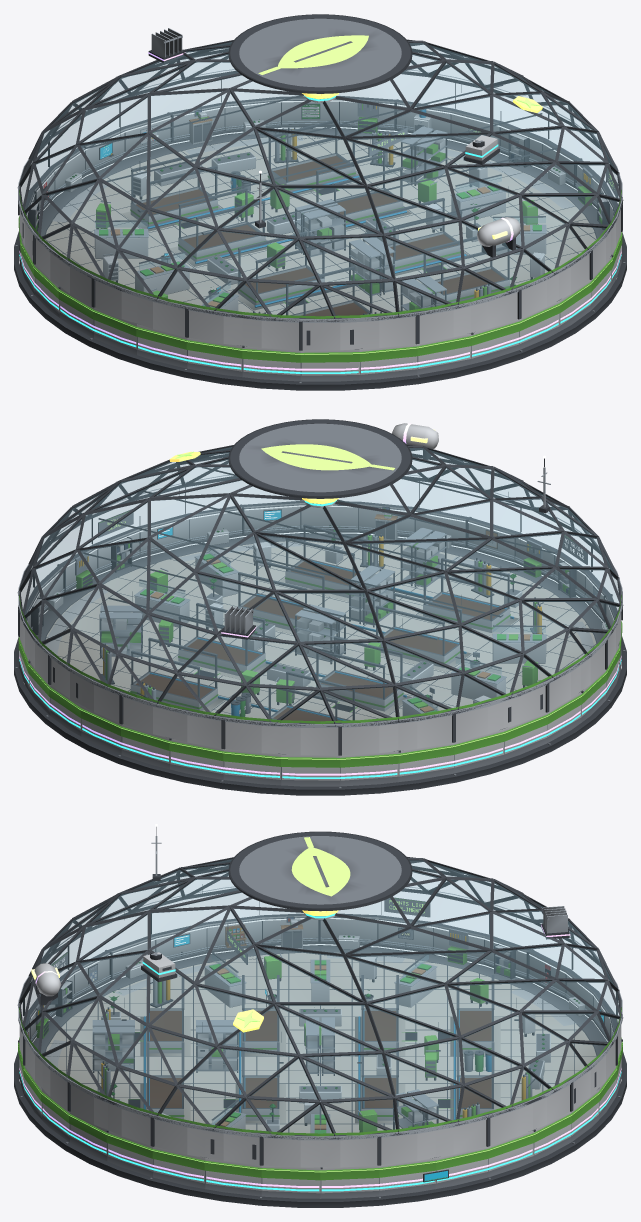
The model's file is greenhouse_l.glb.
The picture shows the model from 3 angles, top to bottom: view 1: azimuth 30°, elevation 25°; view 2: azimuth 150°, elevation 25°; view 3: azimuth 270°, elevation 25°; orthographic projection.
Visible parts, largest first — view 1: Roof, Interior, Base, RoofCeil, L4, Wall_21, Upper_20, Upper_22, Wall_20, Upper_19, Wall_22, Wall_19 (+33 smaller); view 2: Roof, Interior, Base, RoofCeil, L4, Wall_10, Upper_09, Upper_11, Upper_12, Wall_11, Wall_09, Upper_10 (+32 smaller); view 3: Roof, Base, Interior, Wall_00, Wall_31, L4, Upper_31, Upper_00, Wall_30, Wall_16, Wall_15, Upper_01 (+34 smaller).
Boxes of the visible parts, x1,y1,x2,y2 form: Roof: [17, 14, 623, 321]; Interior: [52, 119, 574, 316]; Base: [14, 128, 626, 390]; RoofCeil: [83, 67, 557, 248]; L4: [148, 28, 520, 257]; Wall_21: [300, 349, 359, 381]; Upper_20: [242, 315, 300, 350]; Upper_22: [359, 313, 417, 348]; Wall_20: [242, 345, 300, 381]; Upper_19: [186, 307, 242, 345]; Wall_22: [359, 344, 417, 380]; Wall_19: [186, 337, 242, 377]; Roof: [17, 419, 623, 726]; Interior: [46, 524, 593, 721]; Base: [14, 533, 626, 795]; RoofCeil: [83, 467, 557, 653]; L4: [221, 423, 438, 639]; Wall_10: [281, 754, 340, 786]; Upper_09: [223, 718, 281, 753]; Upper_11: [340, 720, 398, 755]; Upper_12: [398, 712, 454, 750]; Wall_11: [340, 750, 398, 786]; Wall_09: [223, 749, 281, 785]; Upper_10: [281, 724, 340, 755]; Roof: [17, 831, 623, 1139]; Base: [14, 945, 626, 1207]; Interior: [46, 947, 576, 1133]; Wall_00: [320, 1165, 379, 1198]; Wall_31: [261, 1165, 320, 1198]; L4: [31, 906, 570, 1005]; Upper_31: [261, 1135, 320, 1167]; Upper_00: [320, 1136, 379, 1167]; Wall_30: [204, 1157, 261, 1196]; Wall_16: [262, 913, 320, 949]; Wall_15: [320, 913, 378, 949]; Upper_01: [379, 1130, 435, 1165].
Bounding box in the file's own units: 23.15 × 8.68 × 23.15.
